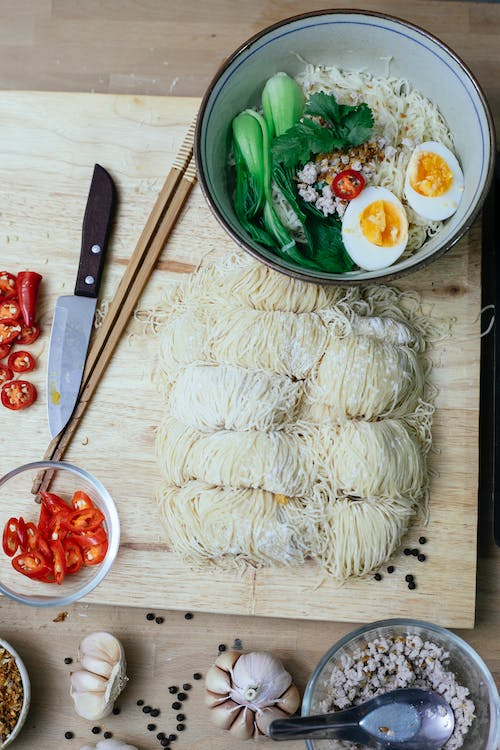knife: (45, 161, 119, 444)
